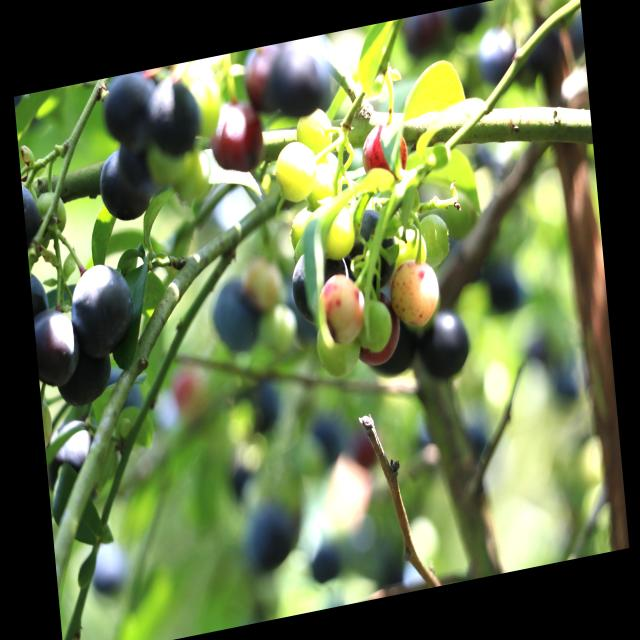blueberry: (67, 259, 139, 357), (285, 248, 356, 338), (95, 144, 159, 229), (343, 207, 402, 290), (144, 72, 202, 156), (53, 342, 114, 414), (418, 307, 473, 383), (34, 308, 78, 388)
blueberry-halfripe: (205, 100, 266, 175), (389, 256, 442, 330), (355, 289, 402, 372), (317, 270, 365, 346), (357, 118, 408, 182)
blueberry-unripe: (313, 322, 362, 382), (275, 137, 318, 204), (320, 200, 361, 262), (417, 211, 452, 272), (294, 105, 334, 156), (33, 185, 69, 240), (359, 296, 394, 352), (391, 222, 429, 272), (287, 202, 318, 249)
